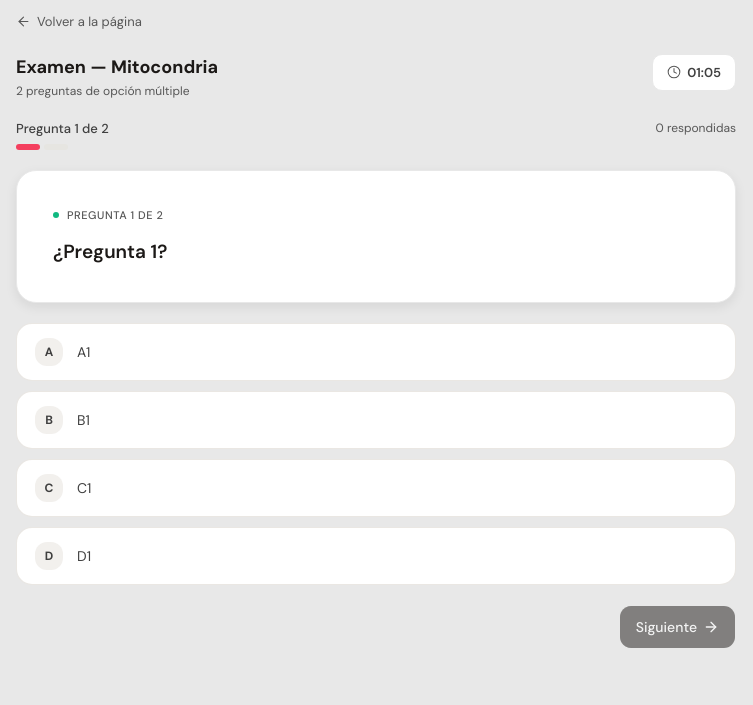
Test: ExamPlayer › keeps the question open and says so when the answer cannot be saved
The width and height of the screenshot is (753, 705).
Click the button "B B1": (49, 420) [16,391,736,449]
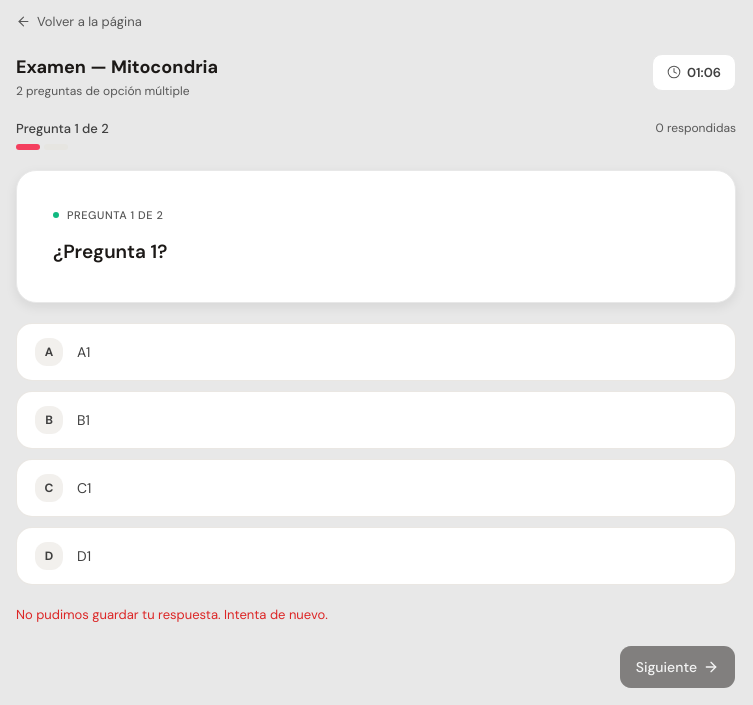
Now the message shows "No pudimos guardar tu respuesta", box [16,606,328,623]
